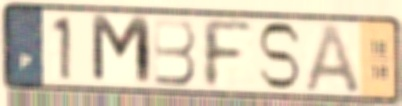1: (48, 14, 74, 83)
A: (302, 21, 365, 95)
B: (151, 16, 199, 87)
F: (198, 16, 256, 91)
M: (88, 12, 156, 89)
S: (255, 20, 303, 92)
